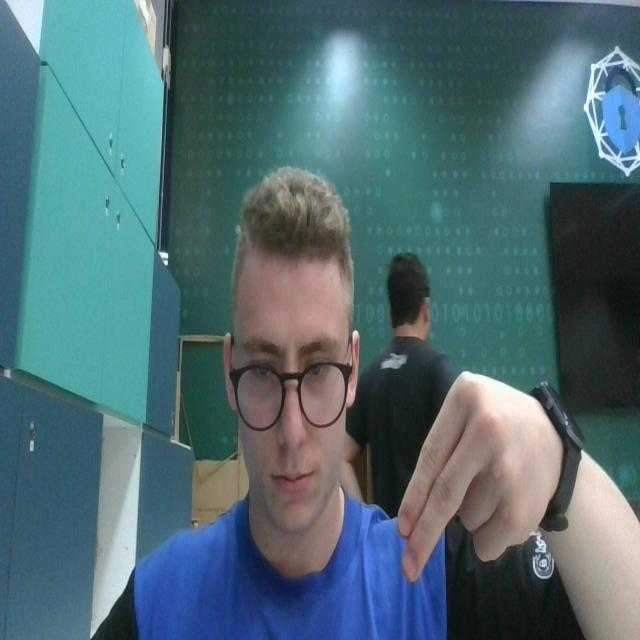N: (391, 370, 533, 588)
